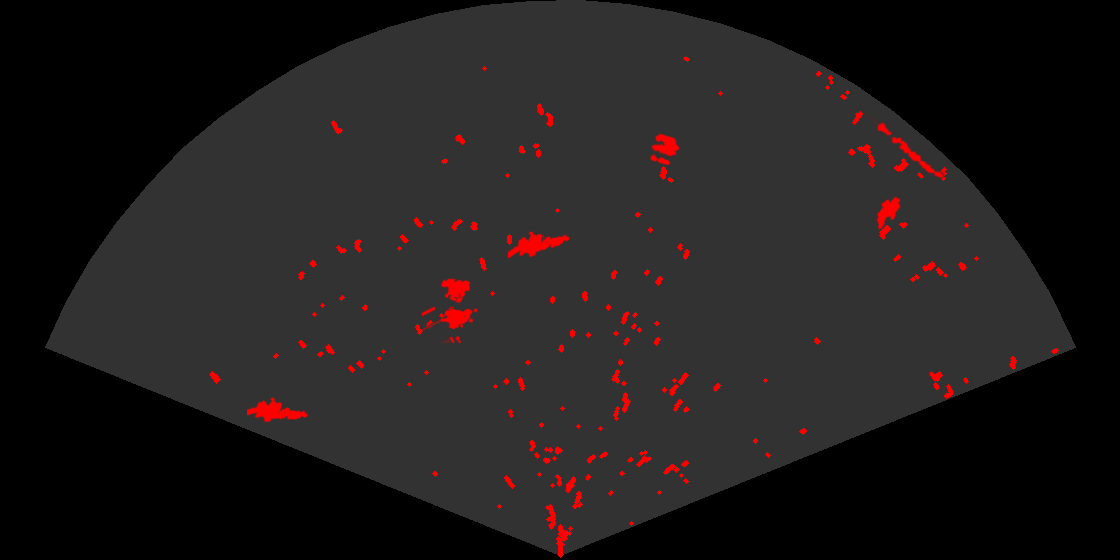AUV: (875, 195, 902, 231)
ball: (648, 132, 681, 167)
cage: (422, 277, 479, 343)
chain: (865, 115, 945, 180)
frogman: (508, 230, 571, 260), (247, 396, 309, 424)
